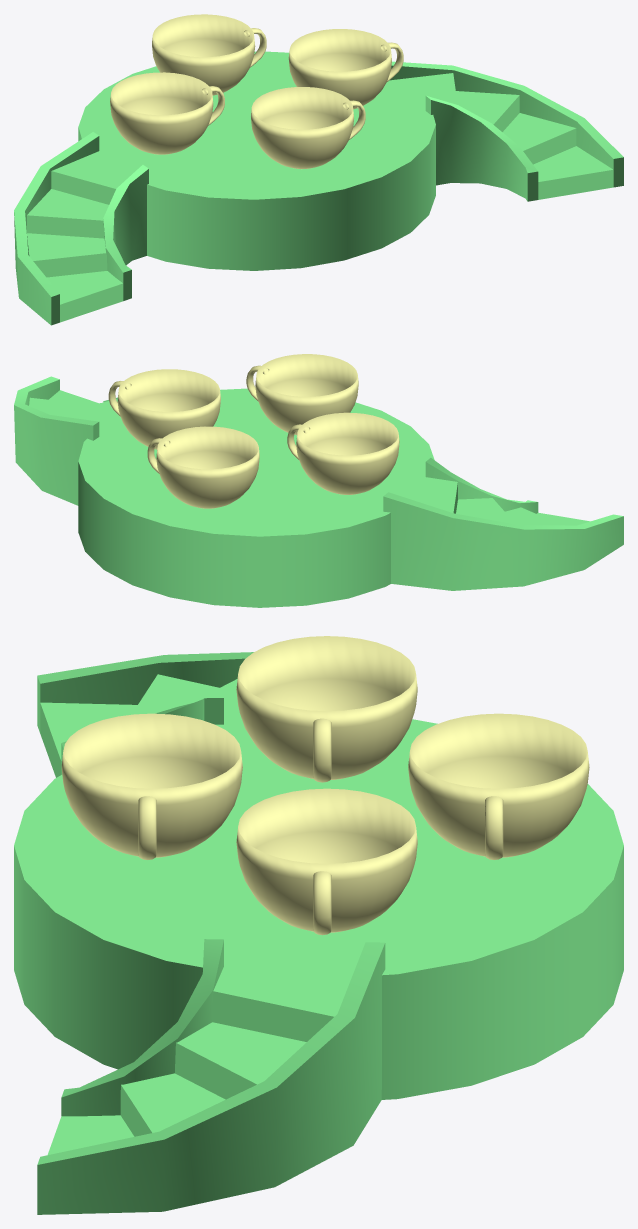
File: coffee.FBX
3 renders of one model, top to bottom at view 1: azimuth 30°, elevation 25°; view 2: azimuth 150°, elevation 25°; view 3: azimuth 270°, elevation 25°, orthographic. The views are drawn at different scales.
Parts seen in each view (by area): view 1: 元件_017, Sphere001, Sphere004, Sphere003, Sphere002; view 2: 元件_017, Sphere003, Sphere001, Sphere004, Sphere002; view 3: 元件_017, Sphere002, Sphere001, Sphere004, Sphere003.
Boxes of the visible parts, bbox=[...] form: 元件_017: bbox=[14, 51, 623, 325]; Sphere001: bbox=[110, 72, 224, 154]; Sphere004: bbox=[251, 87, 365, 169]; Sphere003: bbox=[152, 14, 266, 95]; Sphere002: bbox=[288, 29, 403, 109]; 元件_017: bbox=[14, 376, 623, 607]; Sphere003: bbox=[147, 426, 259, 508]; Sphere001: bbox=[287, 412, 399, 494]; Sphere004: bbox=[246, 354, 358, 434]; Sphere002: bbox=[108, 369, 220, 449]; 元件_017: bbox=[14, 652, 623, 1214]; Sphere002: bbox=[236, 788, 417, 935]; Sphere001: bbox=[236, 636, 417, 782]; Sphere004: bbox=[61, 713, 242, 859]; Sphere003: bbox=[408, 713, 589, 859].
Size of the model in its own units: 348 by 72.04 by 183.
